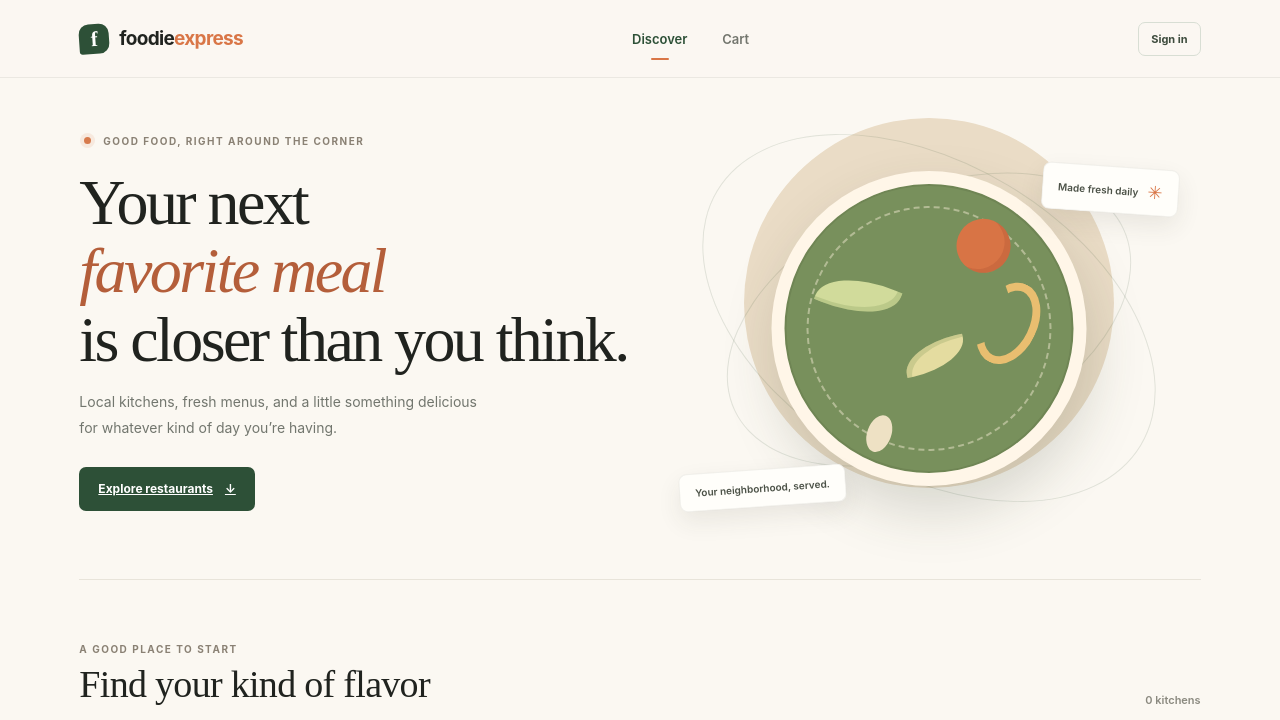
it: FoodieExpress UI › shows duplicate-email registration errors in an error toast without closing the dialog
Step 1. Click the button "Sign in" → point(1169, 38), box x1=1138 y1=22 x2=1201 y2=56
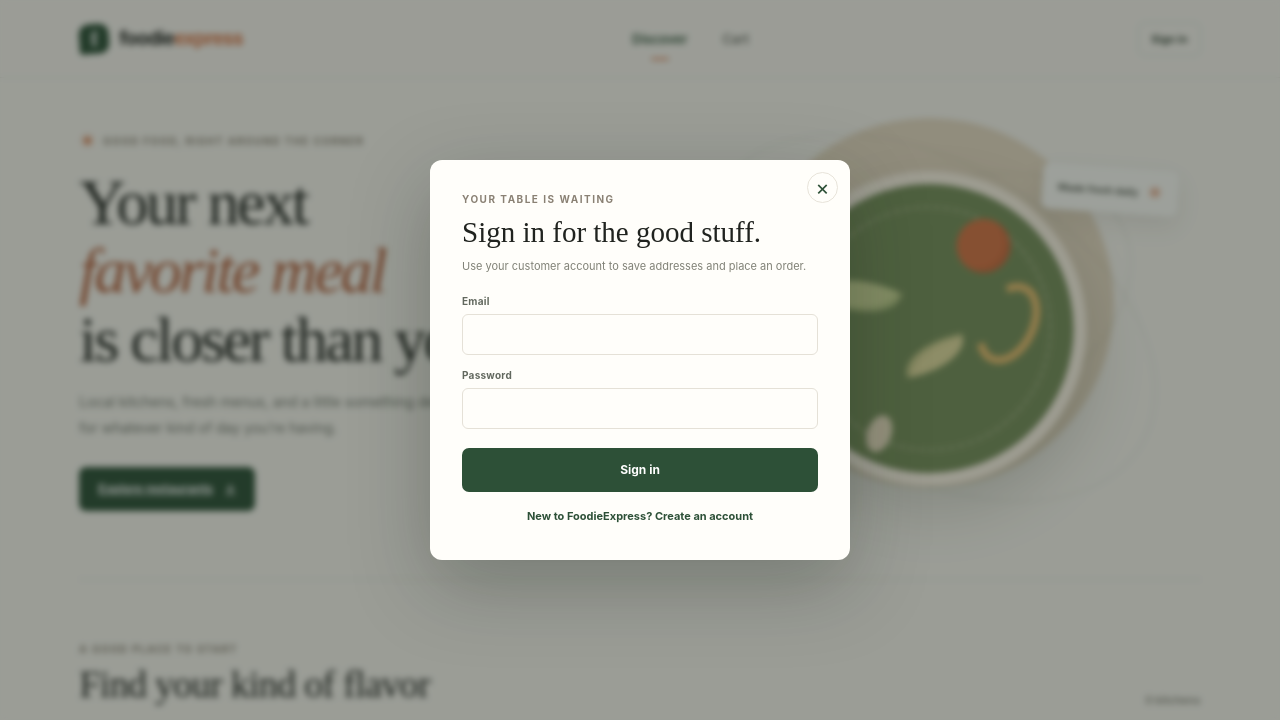
Step 2. Click the button "New to FoodieExpress? Create an account" → point(640, 516), box x1=462 y1=504 x2=818 y2=528
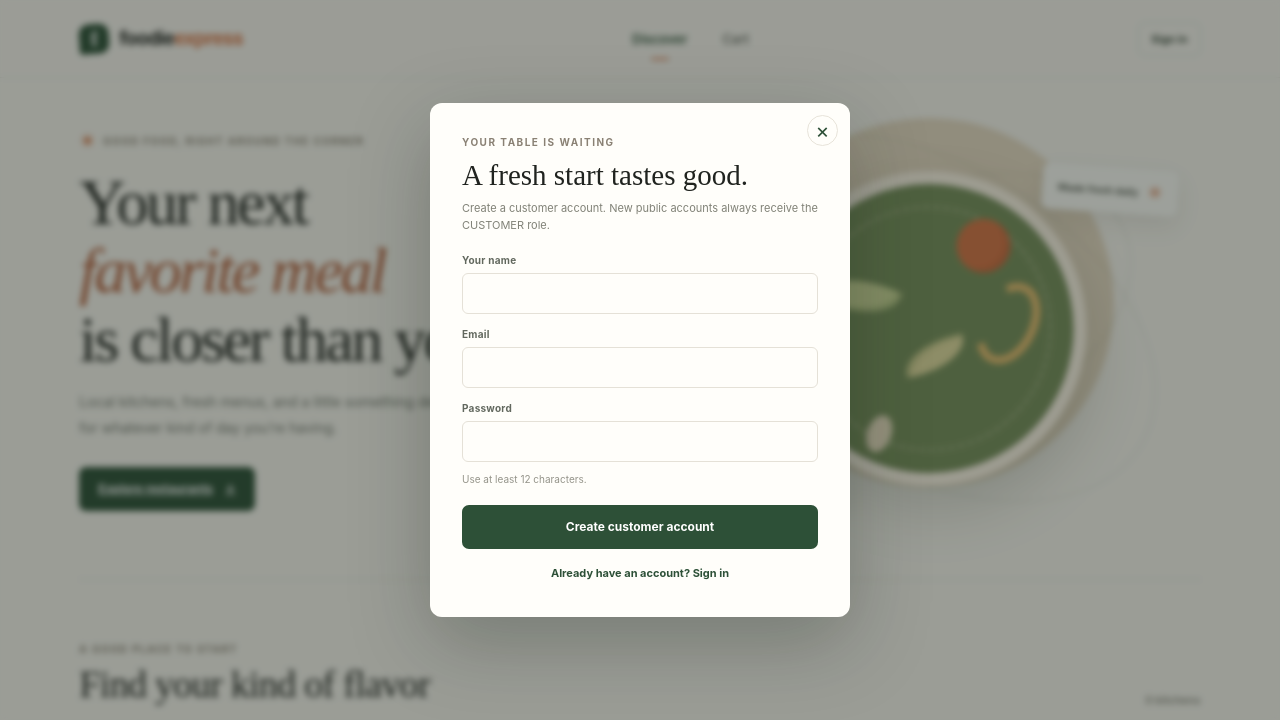
Step 3. Type "Local Customer" into the field labelled "Your name" → point(640, 294), box x1=462 y1=273 x2=818 y2=314
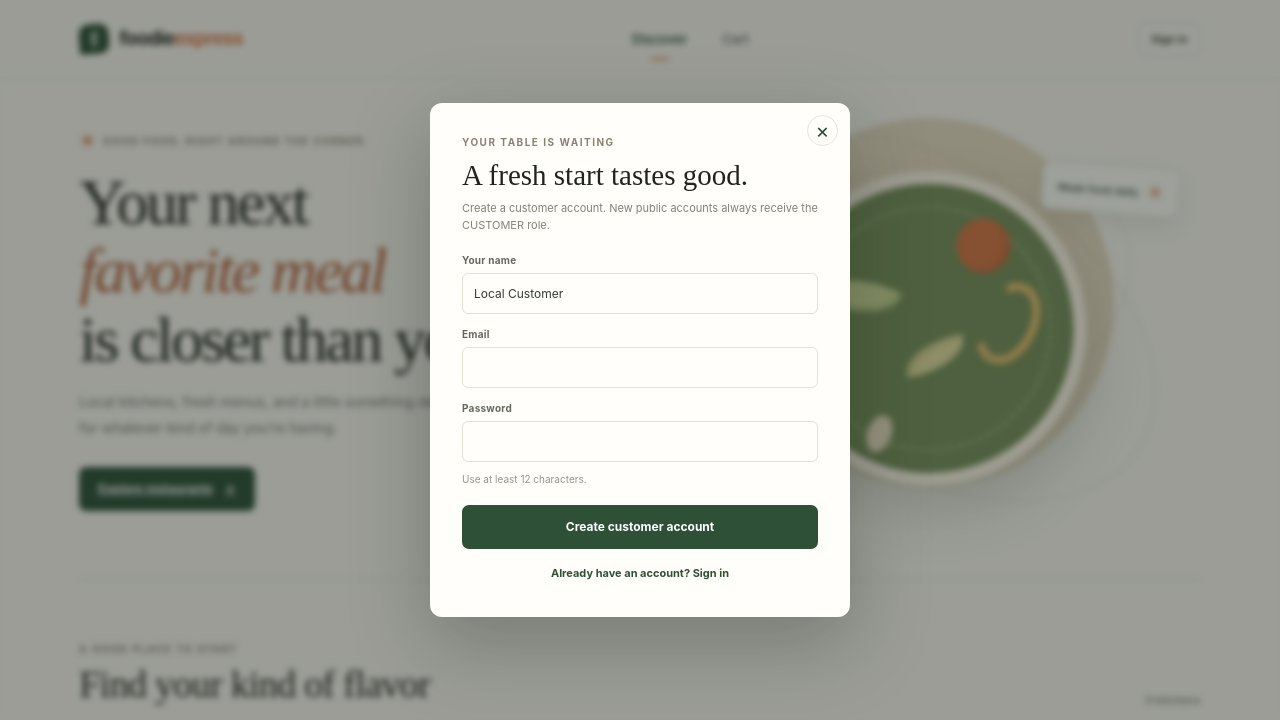
Step 4. Type "new@example.test" into the field labelled "Email" → point(640, 368), box x1=462 y1=347 x2=818 y2=388
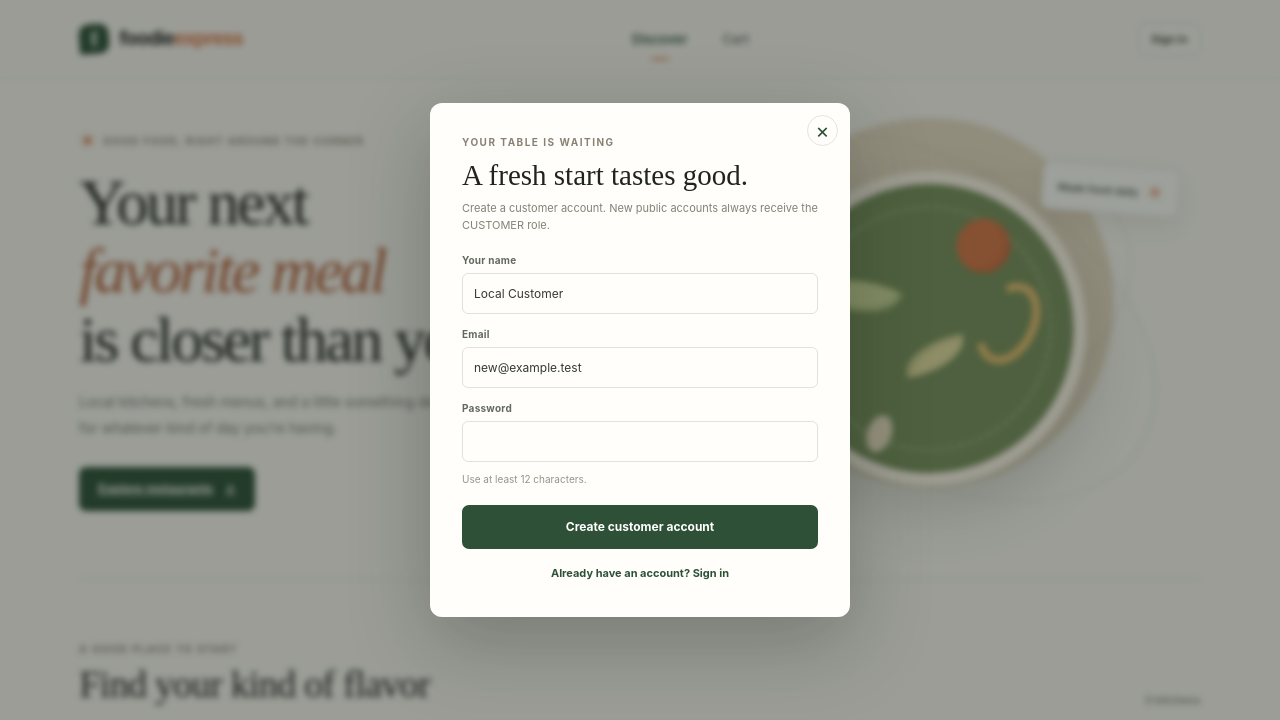
Step 5. Type "correct-horse-battery" into the password field labelled "Password" → point(640, 442), box x1=462 y1=421 x2=818 y2=462
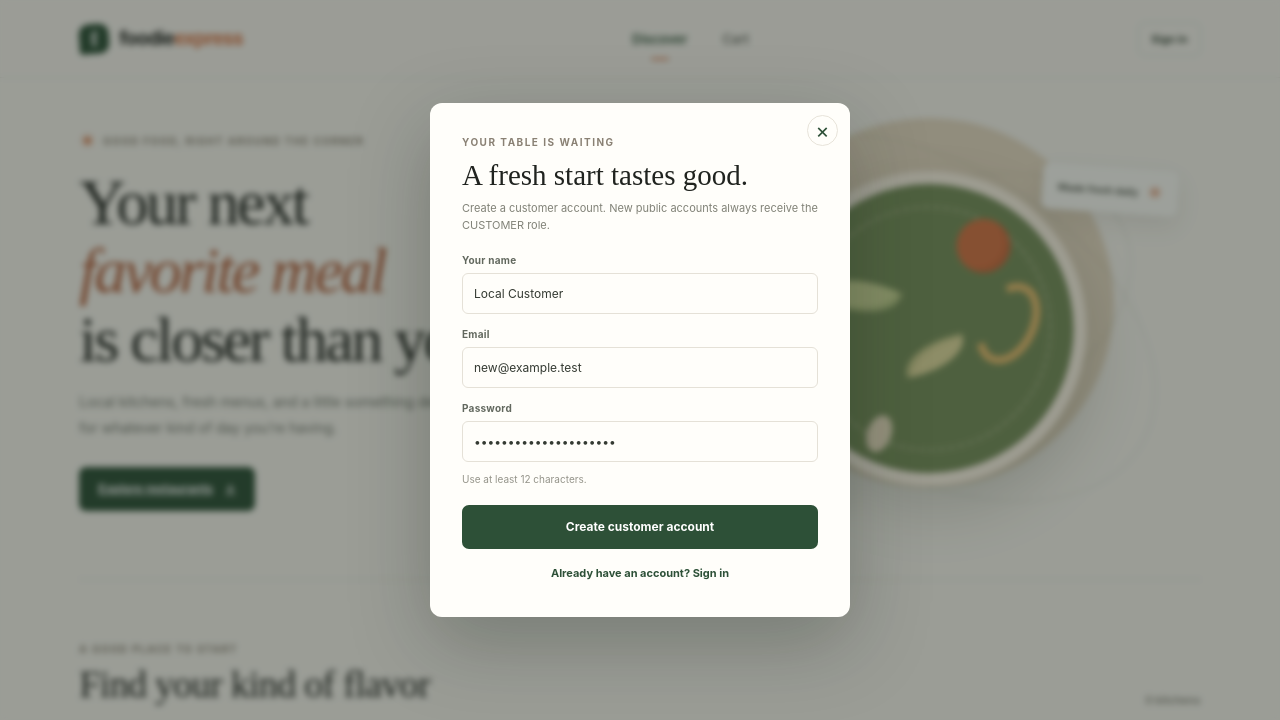
Step 6. Click the button "Create customer account" → point(640, 527), box x1=462 y1=505 x2=818 y2=549
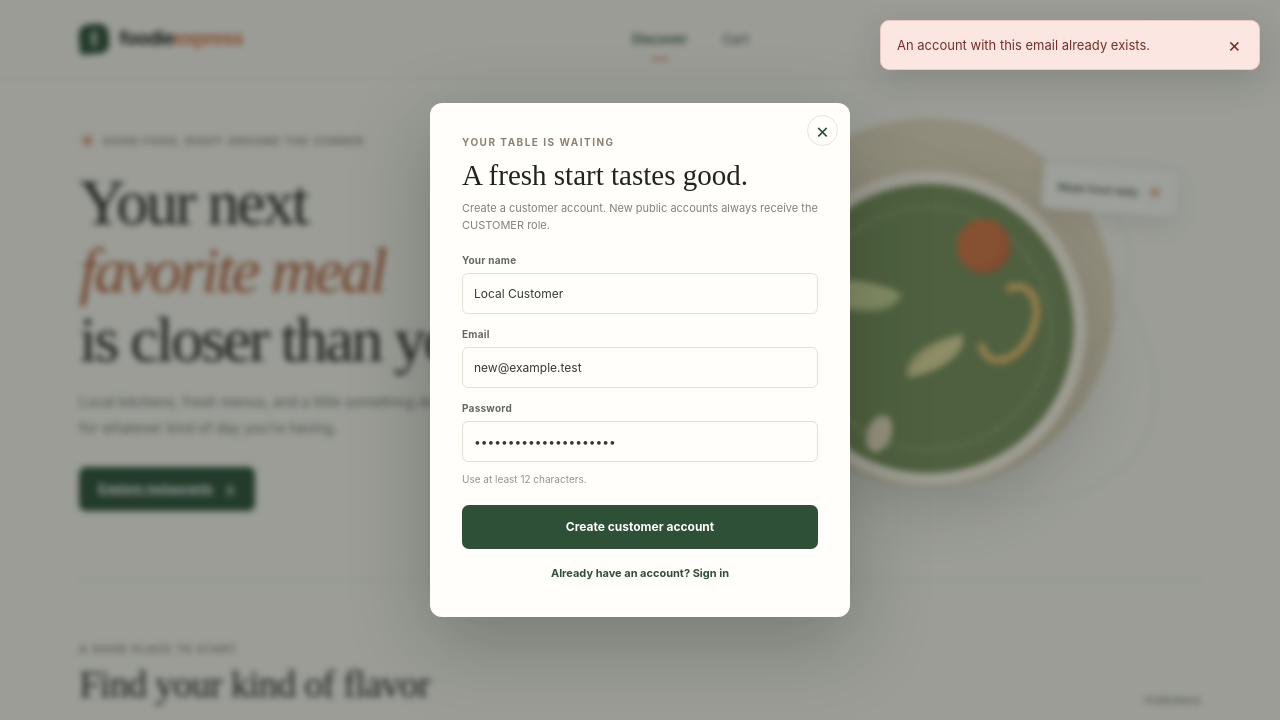
Expected: the dialog named "Sign in or register" is shown, x1=430 y1=103 x2=850 y2=617
Expected: the message shows "An account with this email already exists.", x1=897 y1=37 x2=1150 y2=53
Expected: the message "An account with this email already exists. ×" is shown, x1=880 y1=20 x2=1260 y2=70
